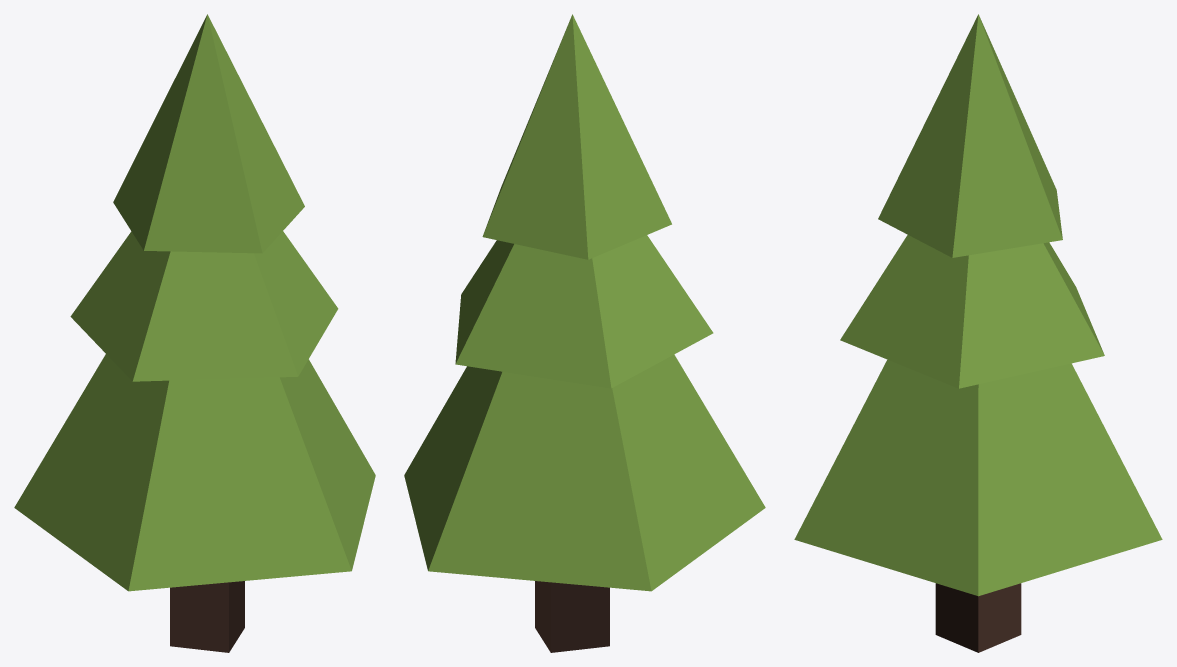
The model's file is TB_Env_TreeTB_C.FBX.
3 renders of one model, left to right at view 1: azimuth 30°, elevation 25°; view 2: azimuth 150°, elevation 25°; view 3: azimuth 270°, elevation 25°, orthographic.
Parts seen in each view (by area): view 1: TB_Env_TreeTB_C; view 2: TB_Env_TreeTB_C; view 3: TB_Env_TreeTB_C.
Part boxes in pixels (bbox=[...]): TB_Env_TreeTB_C: bbox=[14, 14, 375, 652]; TB_Env_TreeTB_C: bbox=[404, 14, 765, 652]; TB_Env_TreeTB_C: bbox=[794, 14, 1162, 652].
Bounding box in the file's own units: 2.93 × 5.74 × 3.08.
